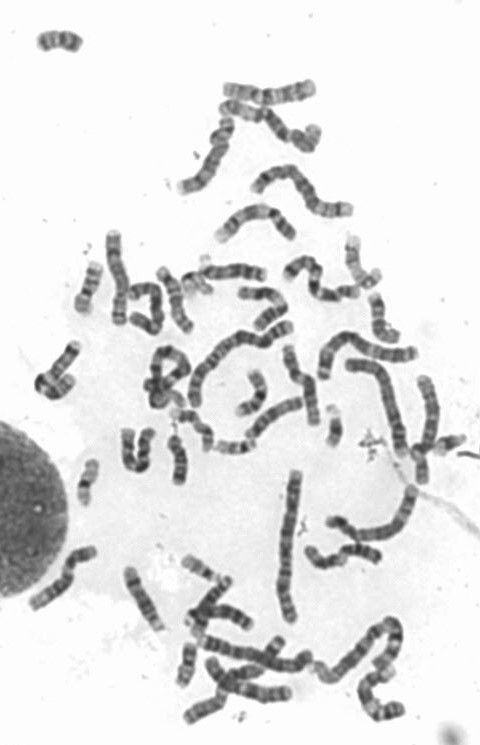chromosomes: (180, 633, 287, 727), (186, 318, 298, 404), (341, 355, 414, 460), (312, 613, 409, 685), (215, 98, 327, 160), (247, 162, 359, 222), (325, 480, 419, 546), (312, 329, 418, 385), (201, 634, 318, 681), (174, 116, 240, 197), (25, 546, 101, 616), (205, 655, 296, 708), (278, 466, 307, 628), (209, 201, 301, 249), (278, 253, 363, 304), (348, 650, 406, 723), (410, 370, 445, 488), (118, 561, 170, 636), (279, 341, 324, 427), (137, 342, 193, 410), (33, 337, 85, 404), (100, 226, 134, 327), (156, 263, 199, 341), (189, 574, 237, 642), (304, 539, 383, 578), (243, 393, 303, 443), (234, 282, 291, 334), (218, 77, 319, 103), (343, 231, 385, 292), (193, 255, 268, 287), (128, 281, 170, 337), (167, 408, 216, 456), (67, 258, 104, 319), (182, 605, 259, 634), (235, 365, 273, 419), (366, 289, 402, 346), (120, 424, 156, 477), (74, 455, 106, 511), (176, 548, 223, 586), (29, 30, 88, 58), (429, 428, 475, 460), (179, 267, 219, 303), (165, 432, 190, 487), (319, 399, 343, 454), (177, 641, 200, 691), (216, 438, 259, 460)
